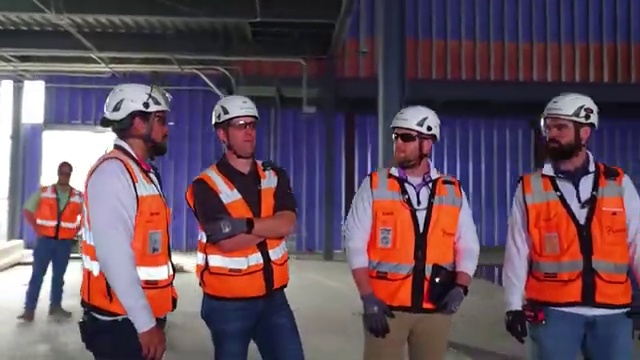helmet: (97, 81, 180, 122), (384, 102, 446, 151), (539, 85, 603, 131), (205, 94, 270, 123)
jacket: (512, 166, 638, 307), (84, 152, 181, 319), (365, 164, 468, 317), (181, 157, 296, 294), (38, 181, 83, 247)
